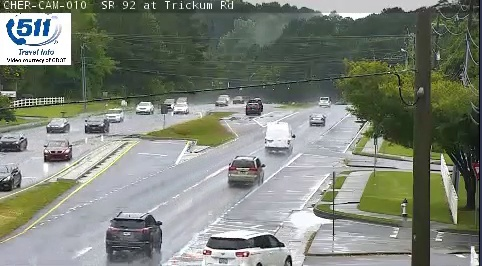car: (107, 213, 163, 250), (228, 157, 262, 184), (310, 113, 326, 125)
van: (265, 122, 292, 152)
